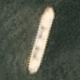ship: (0, 0, 18, 40)
